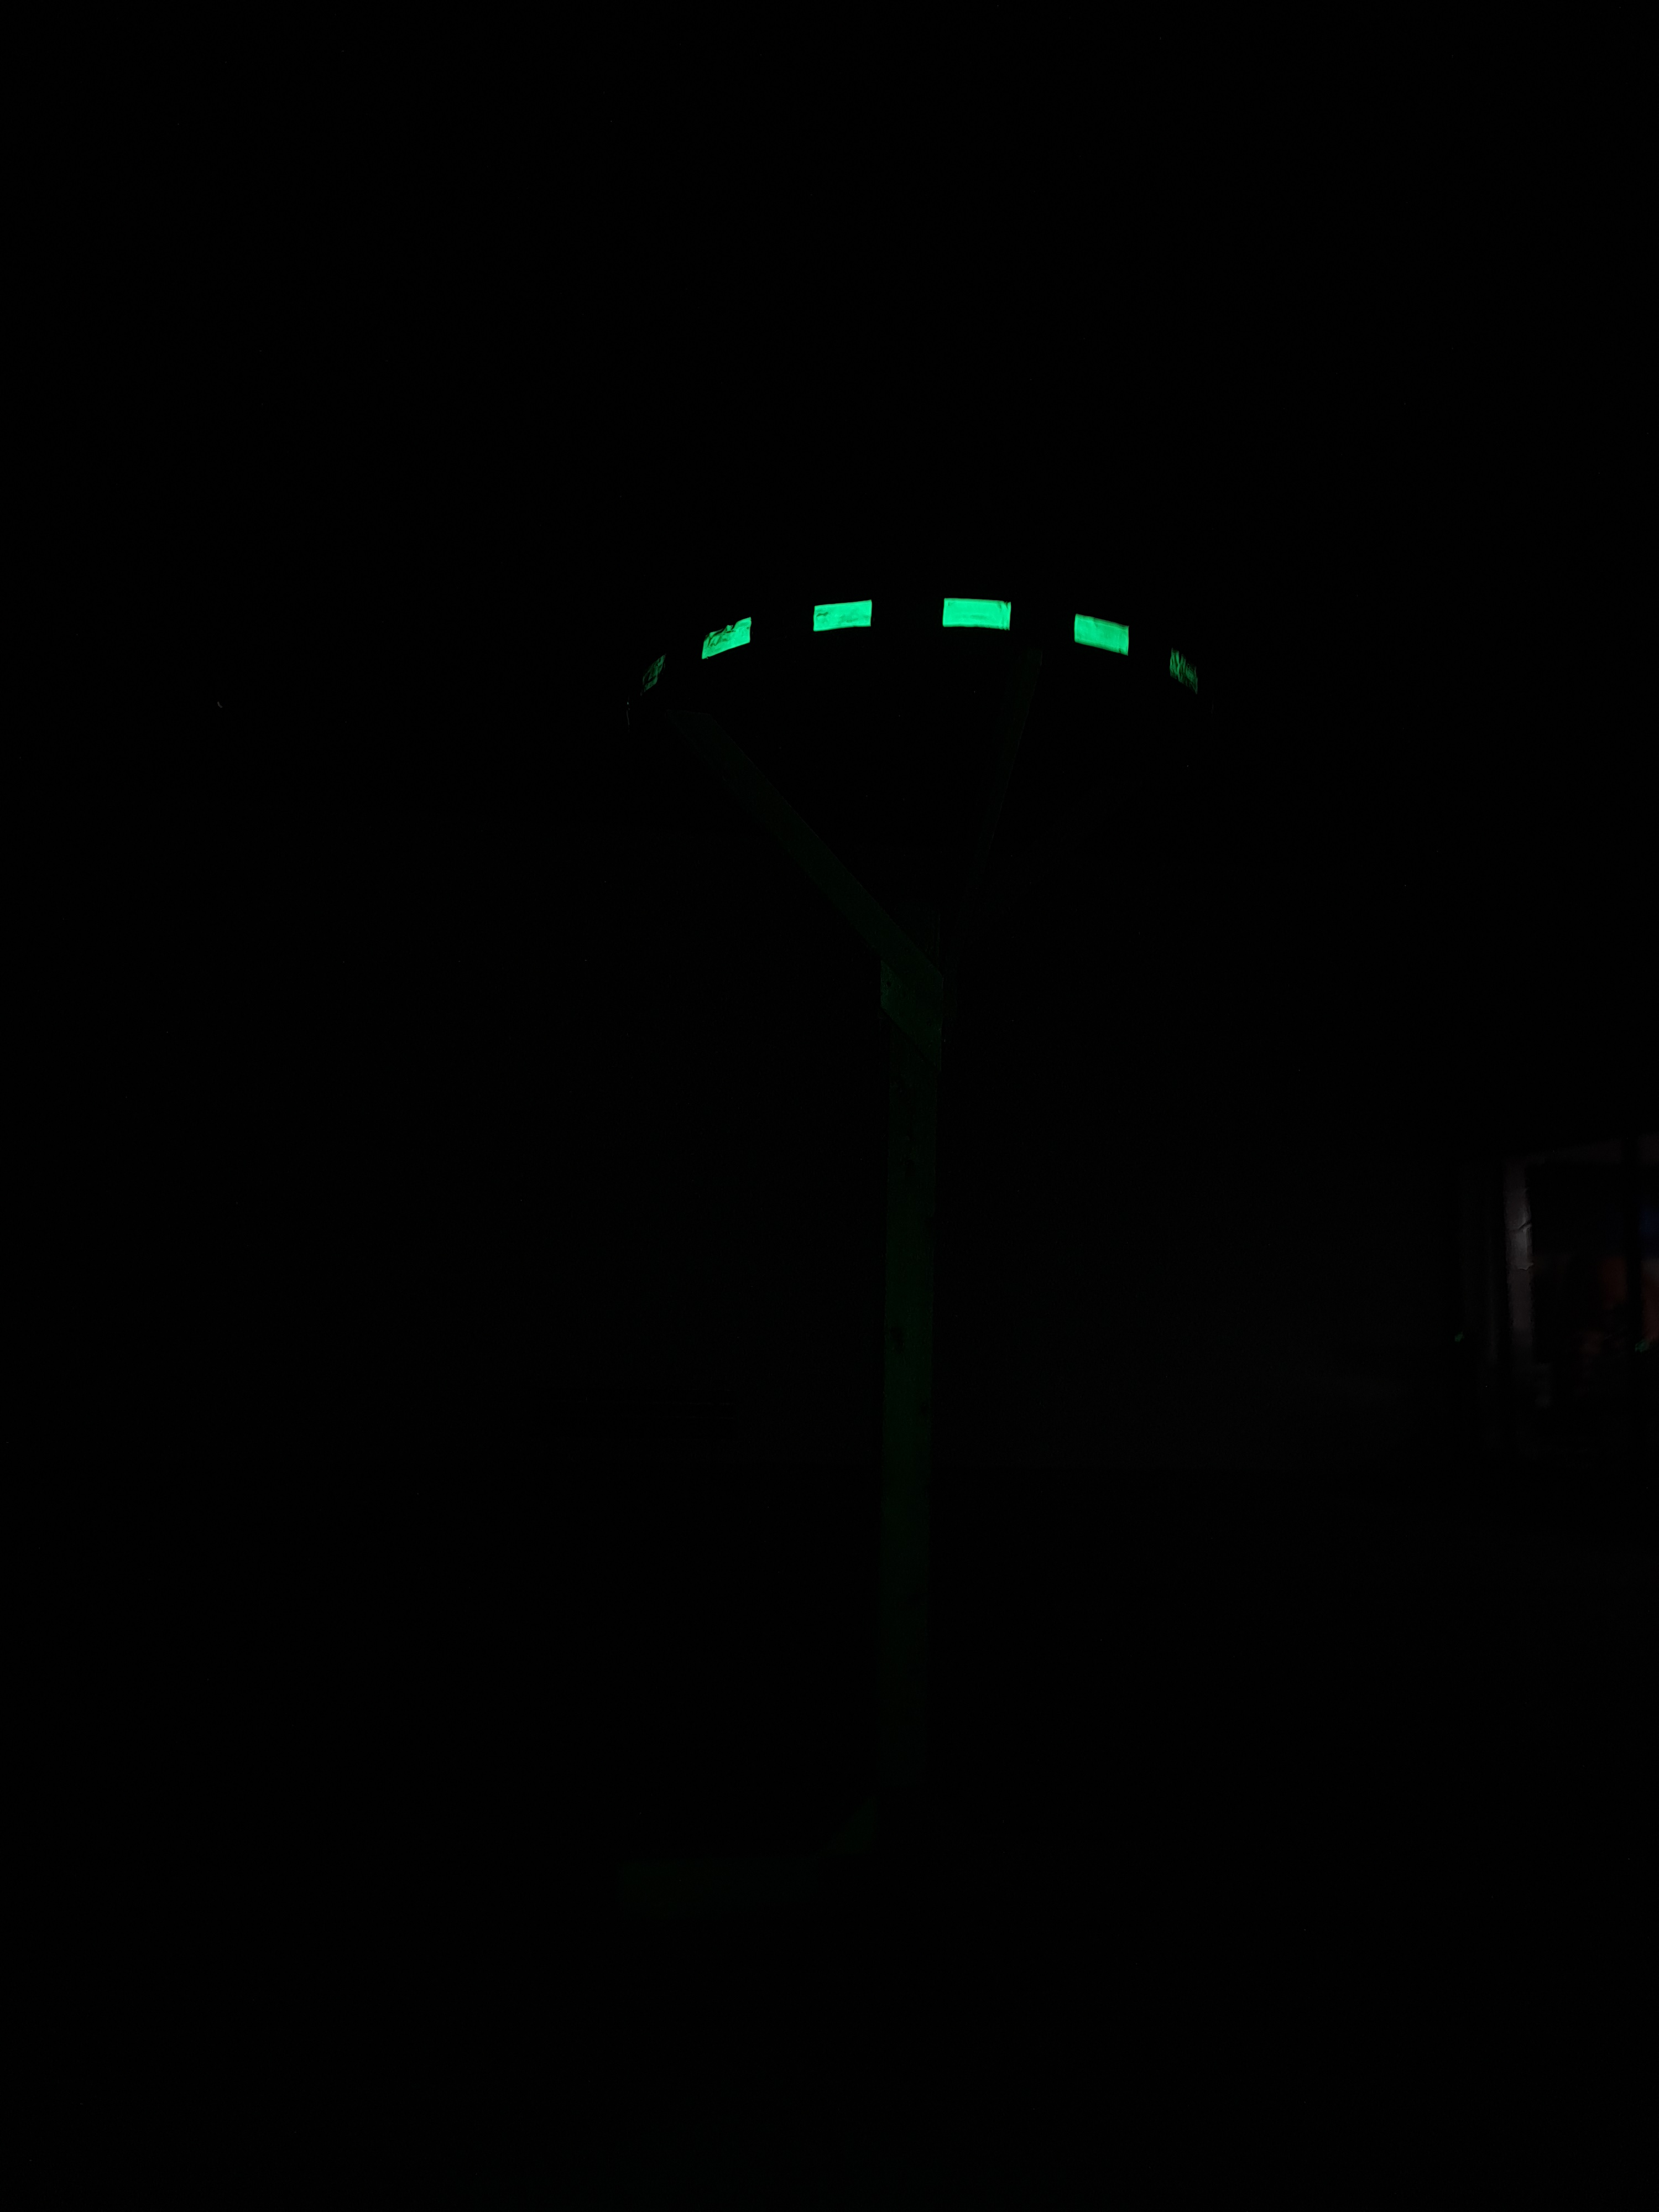hoop: (688, 597, 1208, 698)
